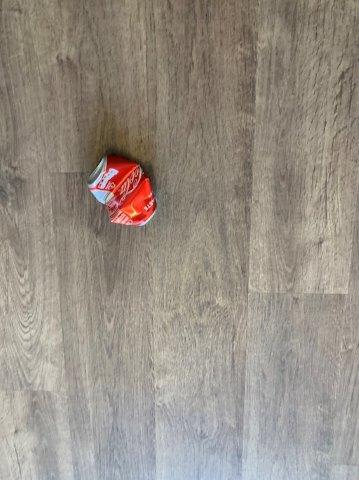kaleng: (87, 156, 156, 224)
